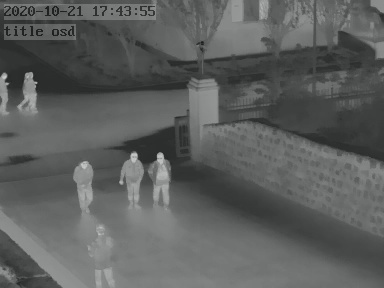person: (89, 219, 116, 288), (148, 149, 174, 214), (75, 151, 97, 219), (121, 149, 144, 205), (19, 69, 39, 113), (1, 69, 12, 117)
